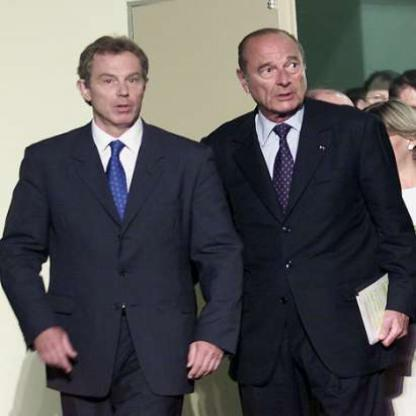face: (246, 30, 311, 114), (90, 41, 148, 128)
